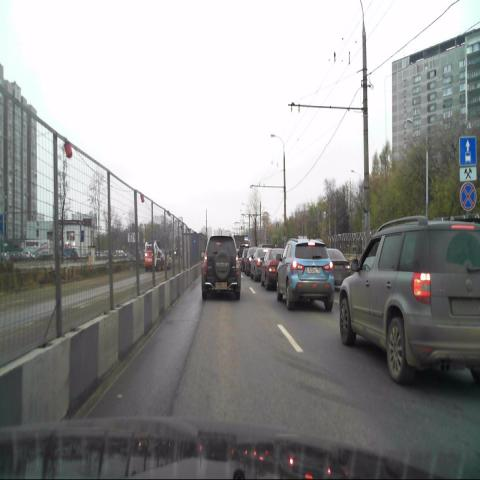5_14: (460, 135, 477, 166)
8_5_2: (458, 166, 477, 180)
